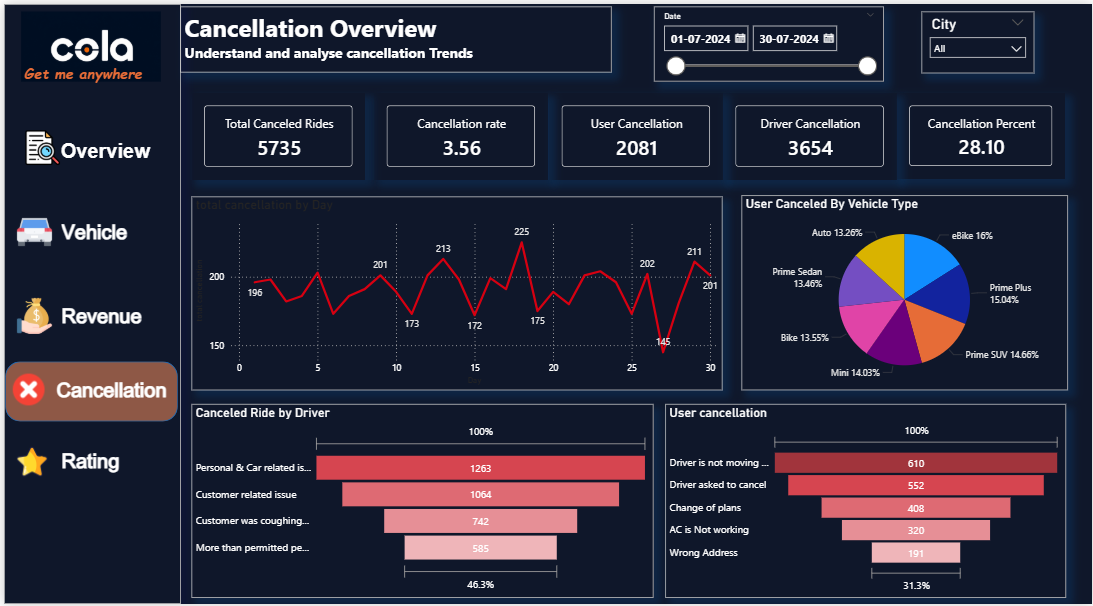

The dashboard page shown, as its layout file describes it:
{"tool":"powerbi","page":{"name":"Cancellation ","canvas":[1450,800],"ordinal":3},"visuals":[{"type":"shape","box":[0,0,235.7,800],"z":0},{"type":"shape","box":[2,476,230,80],"z":1000},{"type":"image","box":[10,10,211.7,93.3],"z":2000},{"type":"textbox","box":[0,75,211.7,36.7],"z":3000},{"type":"textbox","box":[58.3,176.7,153.3,53.3],"z":4000},{"type":"image","box":[28.3,168.3,46.7,46.7],"z":5000},{"type":"textbox","box":[71.7,280,138.3,55],"z":6000},{"type":"image","box":[16.7,265,48.3,78.3],"z":7000},{"type":"textbox","box":[72,392,138,54],"z":8000},{"type":"image","box":[16,376,48,78],"z":9000},{"type":"textbox","box":[65,490,163.3,51.7],"z":10000},{"type":"image","box":[12,480,42,68],"z":11000},{"type":"textbox","box":[71.7,585,160,51.7],"z":12000},{"type":"image","box":[16.7,576.7,41.7,66.7],"z":13000},{"type":"cardVisual","fields":{"Data":["July.canceledPercentage"]},"box":[1190,118.3,225,115],"z":14000},{"type":"cardVisual","fields":{"Data":["July.Driver Cancellation"]},"box":[958,118,232,116],"z":15000},{"type":"cardVisual","fields":{"Data":["July.total cancellation"]},"box":[250,118,232,116],"z":16000},{"type":"cardVisual","fields":{"Data":["July.Cancellation rate"]},"box":[494,118,232,116],"z":17000},{"type":"cardVisual","fields":{"Data":["July.User Cancellation"]},"box":[726,118,232,116],"z":18000},{"type":"lineChart","fields":{"Category":["July.Date.Variation.Date Hierarchy.Day"],"Y":["July.total cancellation"]},"box":[250,256,708,258],"z":19000},{"type":"slicer","fields":{"Values":["July.Date"]},"box":[866.7,3.3,306.7,100],"z":20000},{"type":"slicer","fields":{"Values":["July.Pickup_Location"]},"box":[1224,10,150,82],"z":21000},{"type":"textbox","box":[235,3.3,575,88.3],"z":22000},{"type":"funnel","title":"User cancellation ","fields":{"Category":["July.Canceled_Rides_by_Customer"],"Y":["July.User Cancellation"]},"box":[882,534,534,258],"z":23000},{"type":"funnel","title":"Canceled Ride by Driver","fields":{"Category":["July.Canceled_Rides_by_Driver"],"Y":["July.Driver Cancellation"]},"box":[250,534,616,258],"z":24000},{"type":"pieChart","title":"User Canceled By Vehicle Type","fields":{"Y":["July.User Cancellation"],"Category":["July.Vehicle_Type"]},"box":[982.5,255,435,260],"z":25000}]}

Visuals, with their boxes on the page's 1450x800 design canvas (x1, y1, x2, y2). These are canvas units, not pixel positions in the 1093x606 screenshot, which may show the page scaled, cropped or inside an application window:
shape: {"x1": 0, "y1": 0, "x2": 236, "y2": 800}
shape: {"x1": 2, "y1": 476, "x2": 232, "y2": 556}
image: {"x1": 10, "y1": 10, "x2": 222, "y2": 103}
textbox: {"x1": 0, "y1": 75, "x2": 212, "y2": 112}
textbox: {"x1": 58, "y1": 177, "x2": 212, "y2": 230}
image: {"x1": 28, "y1": 168, "x2": 75, "y2": 215}
textbox: {"x1": 72, "y1": 280, "x2": 210, "y2": 335}
image: {"x1": 17, "y1": 265, "x2": 65, "y2": 343}
textbox: {"x1": 72, "y1": 392, "x2": 210, "y2": 446}
image: {"x1": 16, "y1": 376, "x2": 64, "y2": 454}
textbox: {"x1": 65, "y1": 490, "x2": 228, "y2": 542}
image: {"x1": 12, "y1": 480, "x2": 54, "y2": 548}
textbox: {"x1": 72, "y1": 585, "x2": 232, "y2": 637}
image: {"x1": 17, "y1": 577, "x2": 58, "y2": 643}
cardVisual - July.canceledPercentage: {"x1": 1190, "y1": 118, "x2": 1415, "y2": 233}
cardVisual - July.Driver Cancellation: {"x1": 958, "y1": 118, "x2": 1190, "y2": 234}
cardVisual - July.total cancellation: {"x1": 250, "y1": 118, "x2": 482, "y2": 234}
cardVisual - July.Cancellation rate: {"x1": 494, "y1": 118, "x2": 726, "y2": 234}
cardVisual - July.User Cancellation: {"x1": 726, "y1": 118, "x2": 958, "y2": 234}
lineChart - July.Date.Variation.Date Hierarchy.Day x July.total cancellation: {"x1": 250, "y1": 256, "x2": 958, "y2": 514}
slicer - July.Date: {"x1": 867, "y1": 3, "x2": 1173, "y2": 103}
slicer - July.Pickup_Location: {"x1": 1224, "y1": 10, "x2": 1374, "y2": 92}
textbox: {"x1": 235, "y1": 3, "x2": 810, "y2": 92}
"User cancellation " funnel: {"x1": 882, "y1": 534, "x2": 1416, "y2": 792}
"Canceled Ride by Driver" funnel: {"x1": 250, "y1": 534, "x2": 866, "y2": 792}
"User Canceled By Vehicle Type" pieChart: {"x1": 982, "y1": 255, "x2": 1418, "y2": 515}
